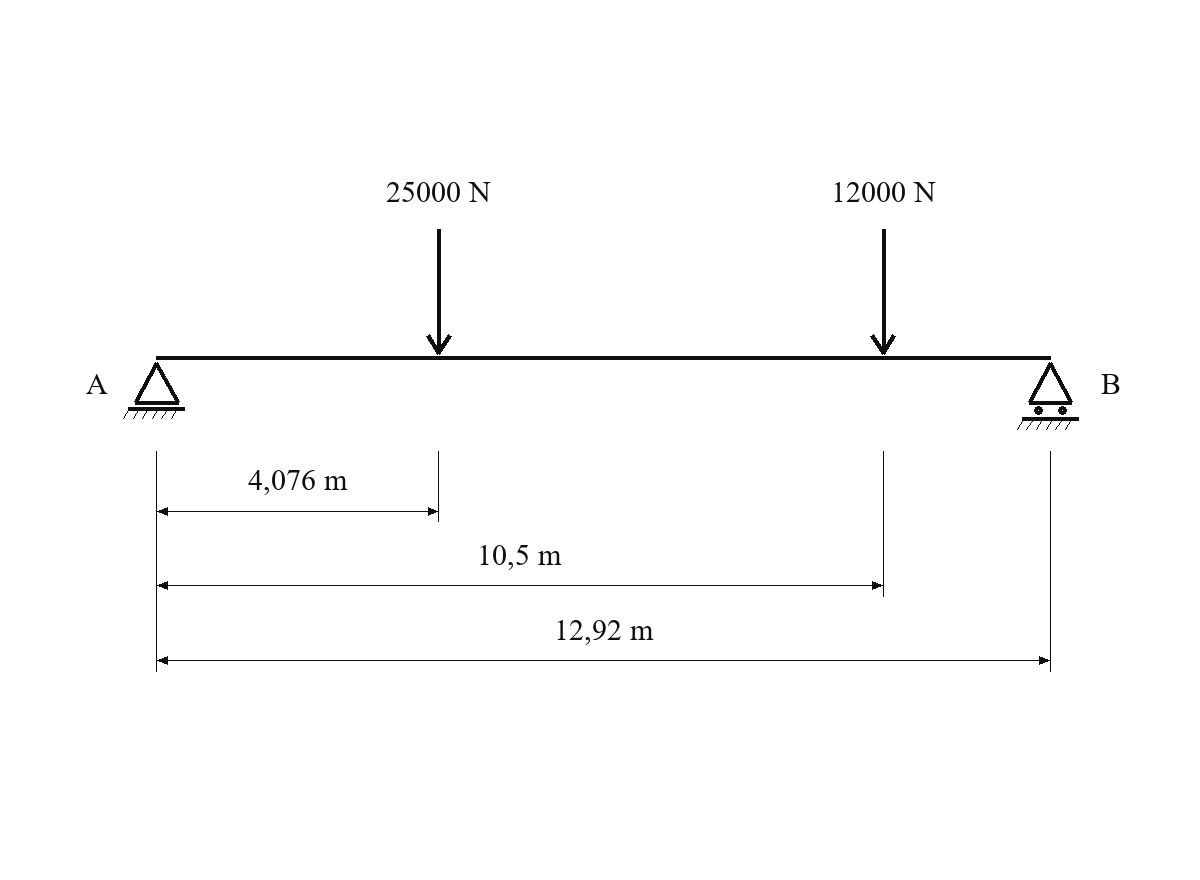pin_support: (123, 362, 185, 419)
point_load: (426, 229, 452, 355), (870, 229, 896, 355)
roller_support: (1017, 362, 1079, 430)
